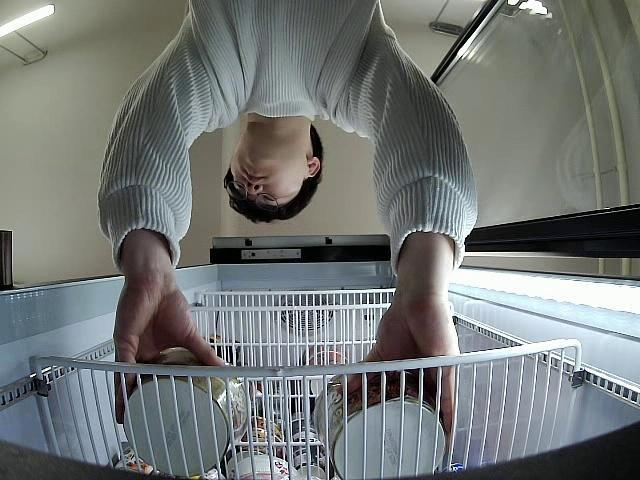03_chapagetti_L: (123, 348, 248, 478), (313, 375, 448, 480)
